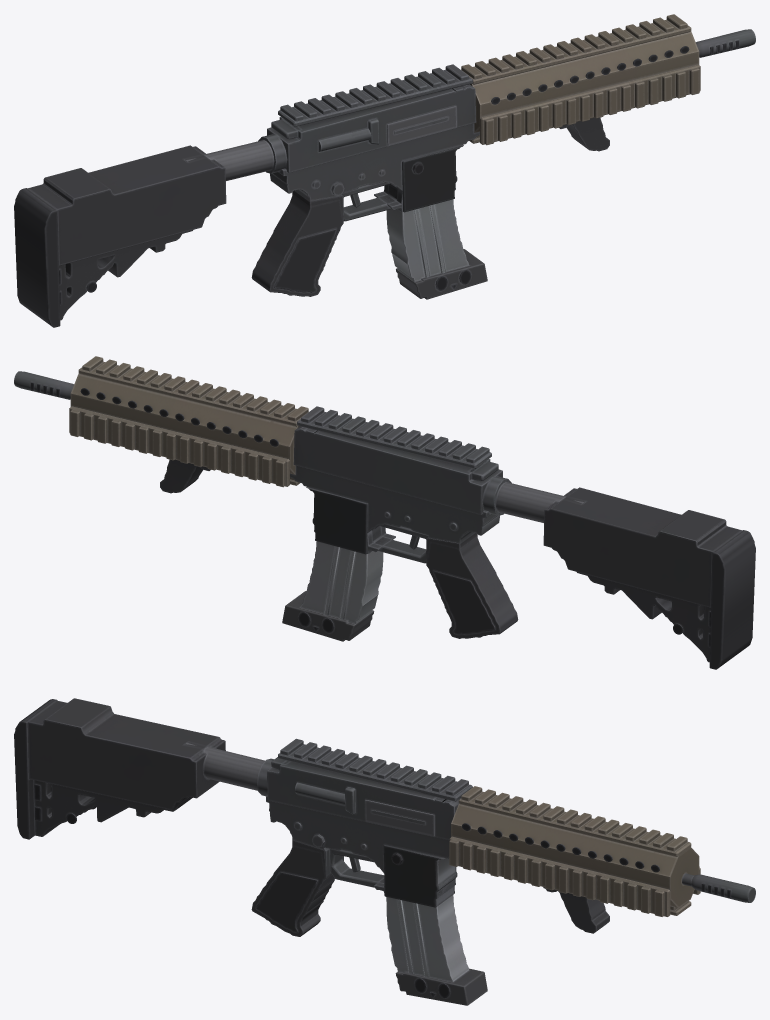
3 views of the same model, one above another, from view 1: azimuth 30°, elevation 25°; view 2: azimuth 150°, elevation 25°; view 3: azimuth 330°, elevation 25° (orthographic).
Parts seen in each view (by area): view 1: AT_M4; view 2: AT_M4; view 3: AT_M4.
Boxes of the visible parts, left/top/right/bottom form: AT_M4: left=14, top=14, right=755, bottom=327; AT_M4: left=14, top=356, right=755, bottom=669; AT_M4: left=14, top=698, right=755, bottom=1005.
Size of the model in its own units: 0.5085 by 0.1425 by 0.0457.
1 material, 1 textured.
